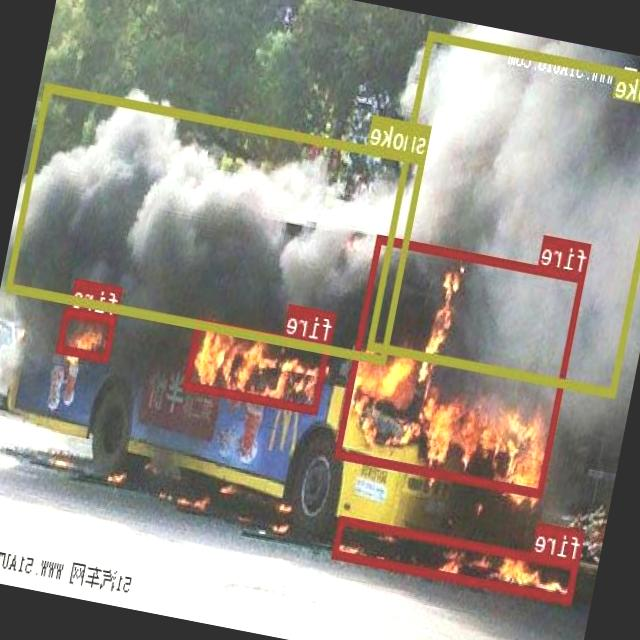fire: (336, 234, 586, 496), (334, 514, 581, 604), (186, 317, 332, 413), (58, 306, 118, 361)
smoke: (6, 82, 428, 364), (368, 31, 640, 397)
